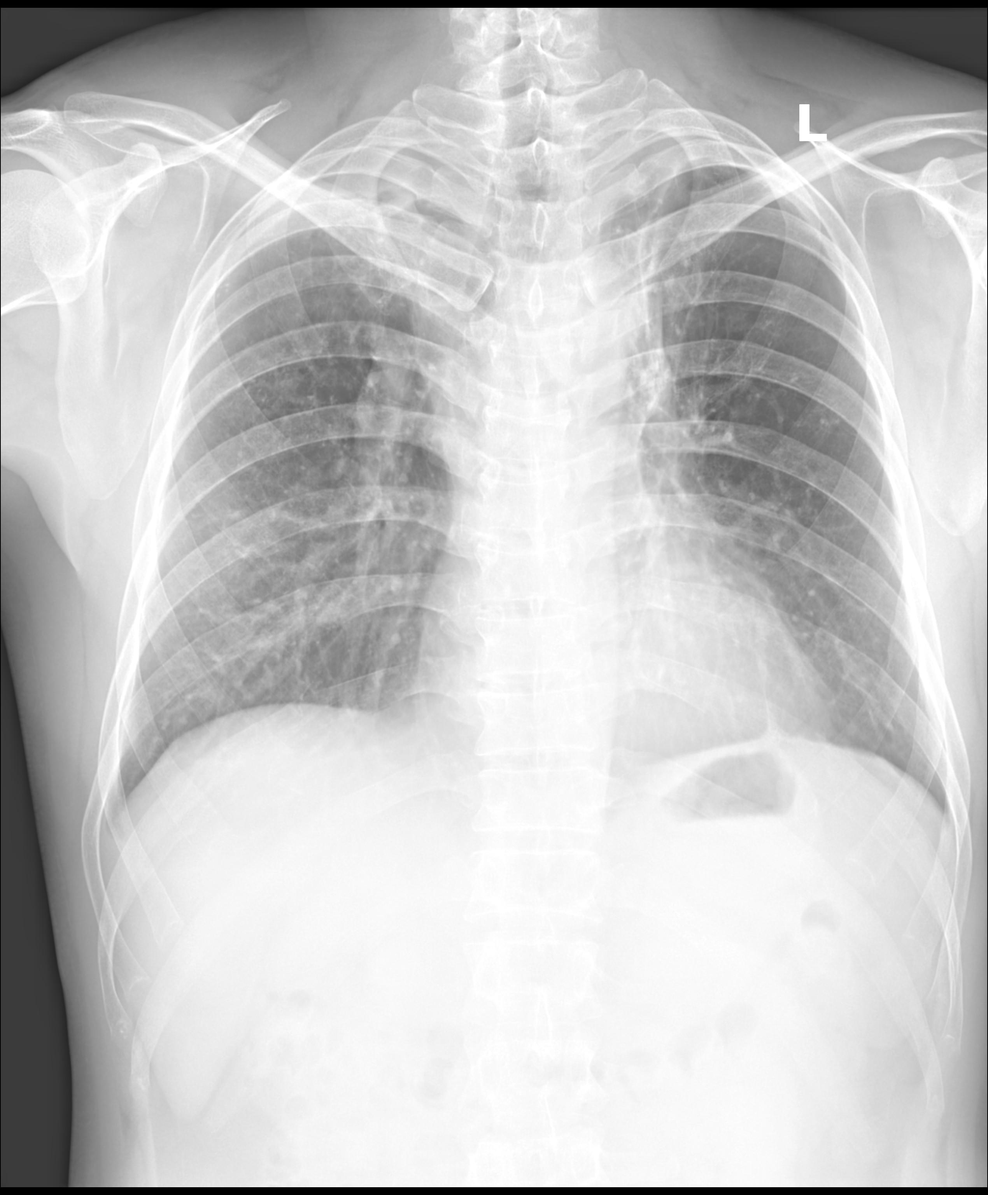Aortic enlargement: (530, 235, 642, 400)
Cardiomegaly: (410, 623, 836, 784)
Pleural thickening: (270, 183, 423, 216)
Pulmonary fibrosis: (633, 152, 707, 439)
